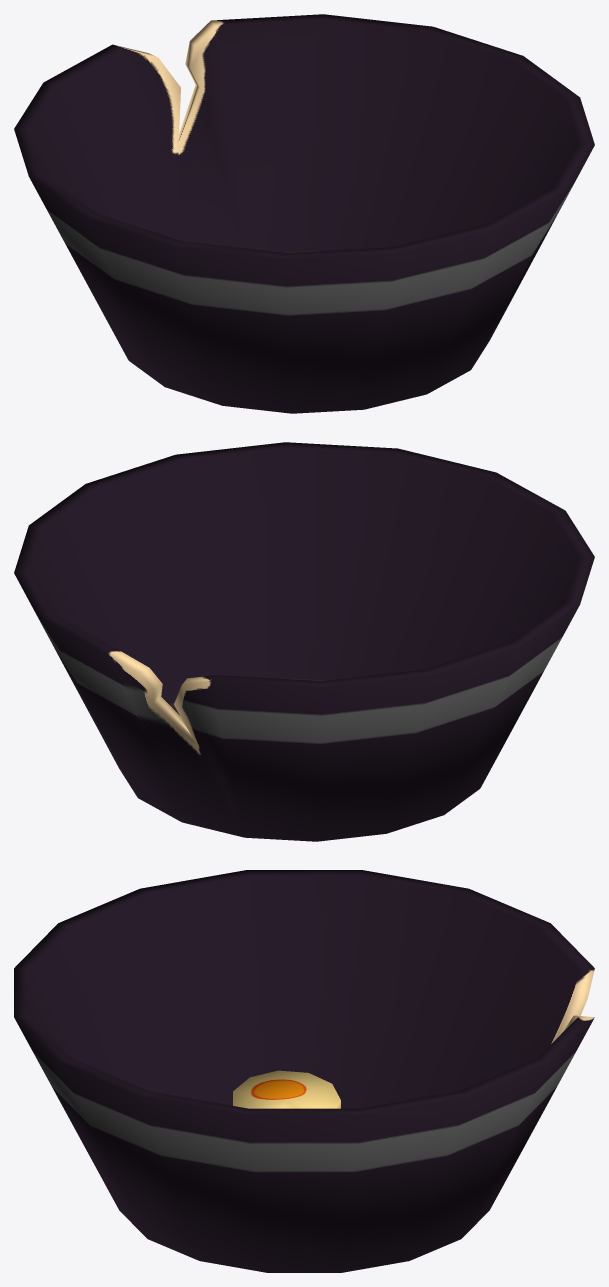
File: ramenMal.fbx
3 renders of one model, top to bottom at view 1: azimuth 30°, elevation 25°; view 2: azimuth 150°, elevation 25°; view 3: azimuth 270°, elevation 25°, orthographic.
Parts seen in each view (by area): view 1: Ramen_MAL; view 2: Ramen_MAL; view 3: Ramen_MAL.
Boxes of the visible parts, x1,y1,x2,y2 form: Ramen_MAL: [14, 14, 594, 413]; Ramen_MAL: [14, 442, 594, 841]; Ramen_MAL: [14, 870, 594, 1272].
Bounding box in the file's own units: 157 × 60.16 × 157.
